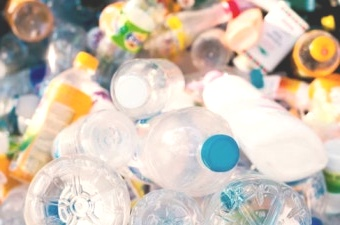plastic: (138, 110, 240, 188)
